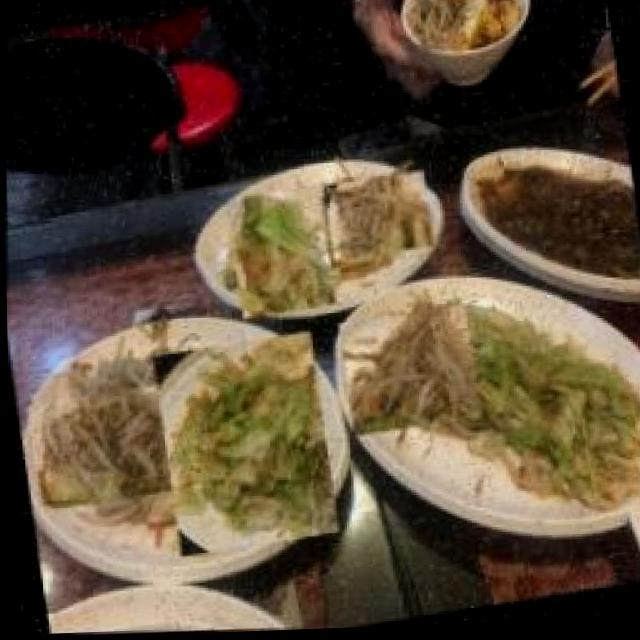chinese_cabbage: (146, 330, 343, 564), (457, 281, 640, 527), (218, 190, 346, 319)
mung_bean_sprouts: (39, 359, 207, 529), (340, 296, 491, 448), (326, 168, 431, 274), (403, 0, 467, 51)
